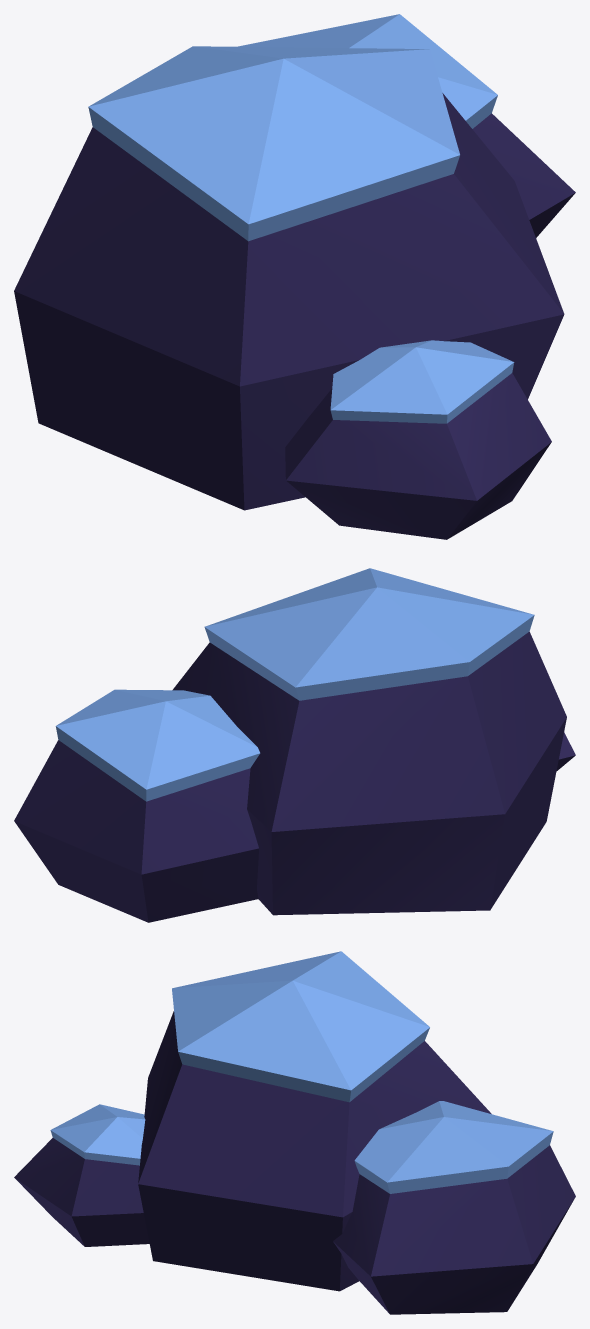
File: Bush_1.fbx
3 renders of one model, top to bottom at view 1: azimuth 30°, elevation 25°; view 2: azimuth 150°, elevation 25°; view 3: azimuth 270°, elevation 25°, orthographic. The views are drawn at different scales.
Parts seen in each view (by area): view 1: Bush_1; view 2: Bush_1; view 3: Bush_1.
Boxes of the visible parts, left/top/right/bottom form: Bush_1: left=14, top=14, right=575, bottom=539; Bush_1: left=14, top=568, right=575, bottom=922; Bush_1: left=14, top=951, right=575, bottom=1314.
Size of the model in its own units: 23.14 by 13.6 by 28.79.
